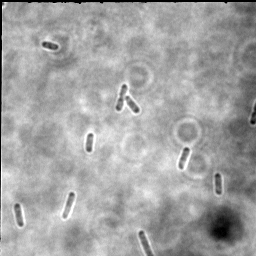Dividing: (114, 83, 128, 112)
Rod: (60, 191, 77, 221), (137, 230, 154, 255), (124, 94, 142, 115), (177, 146, 192, 171), (13, 203, 26, 228), (213, 172, 223, 196), (85, 132, 95, 153), (41, 41, 60, 51)
